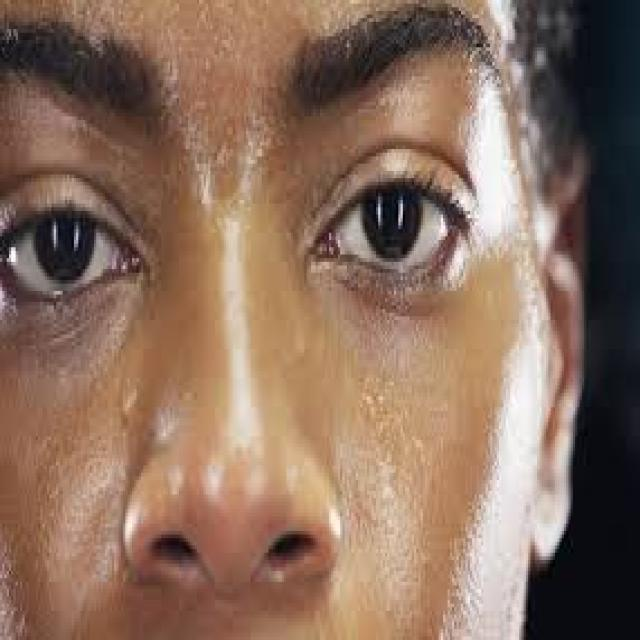Oily-Skin: (84, 23, 496, 570)
